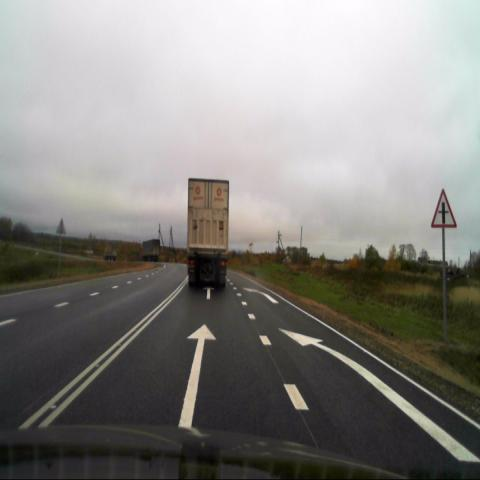2_3: (430, 188, 457, 230)
